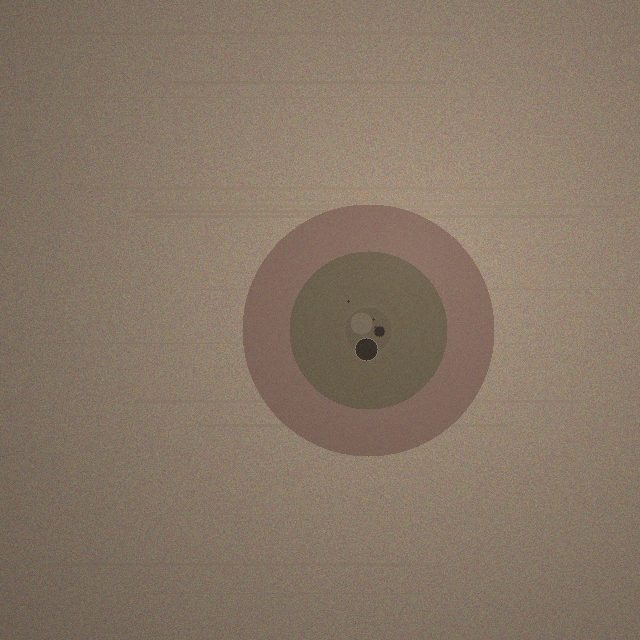shrinkage: (242, 204, 494, 456)
